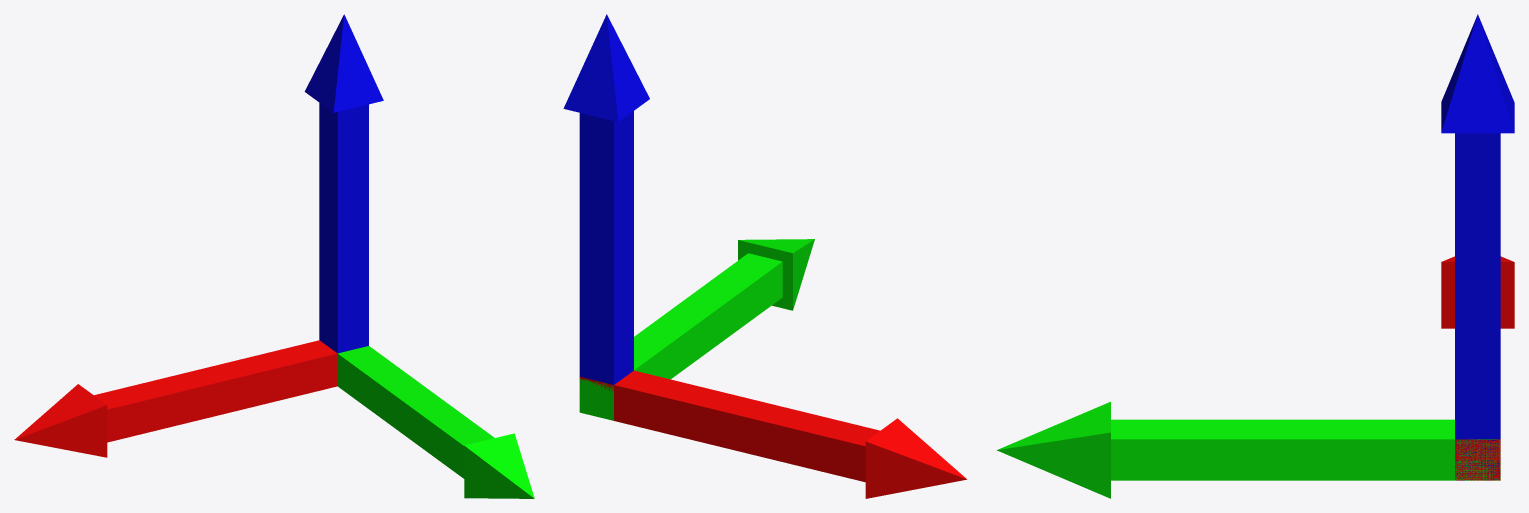
Rendered from xyz.fbx.
3 renders of one model, left to right at view 1: azimuth 30°, elevation 25°; view 2: azimuth 150°, elevation 25°; view 3: azimuth 270°, elevation 25°, orthographic. The views are drawn at different scales.
Parts seen in each view (by area): view 1: z, x, y; view 2: z, x, y; view 3: y, z, x.
Boxes of the visible parts, x1,y1,x2,y2 form: z: (304,14,383,353); x: (14,340,337,457); y: (337,346,534,498); z: (563,14,649,384); x: (579,370,966,498); y: (579,239,814,420); y: (997,401,1500,498); z: (1441,14,1514,480); x: (1441,256,1514,480).
Size of the model in its own units: 452 by 452 by 452.
